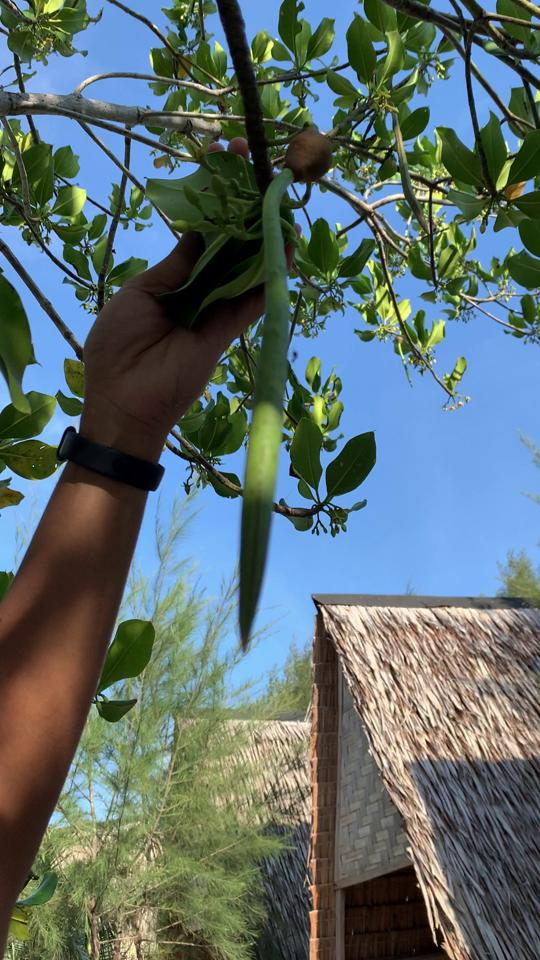mentah: (209, 110, 348, 669)
